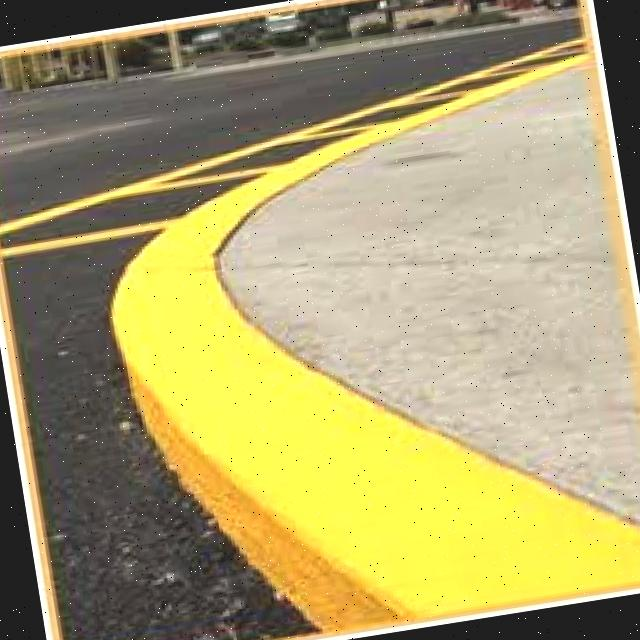curb: (157, 328, 640, 640), (100, 212, 293, 441)
